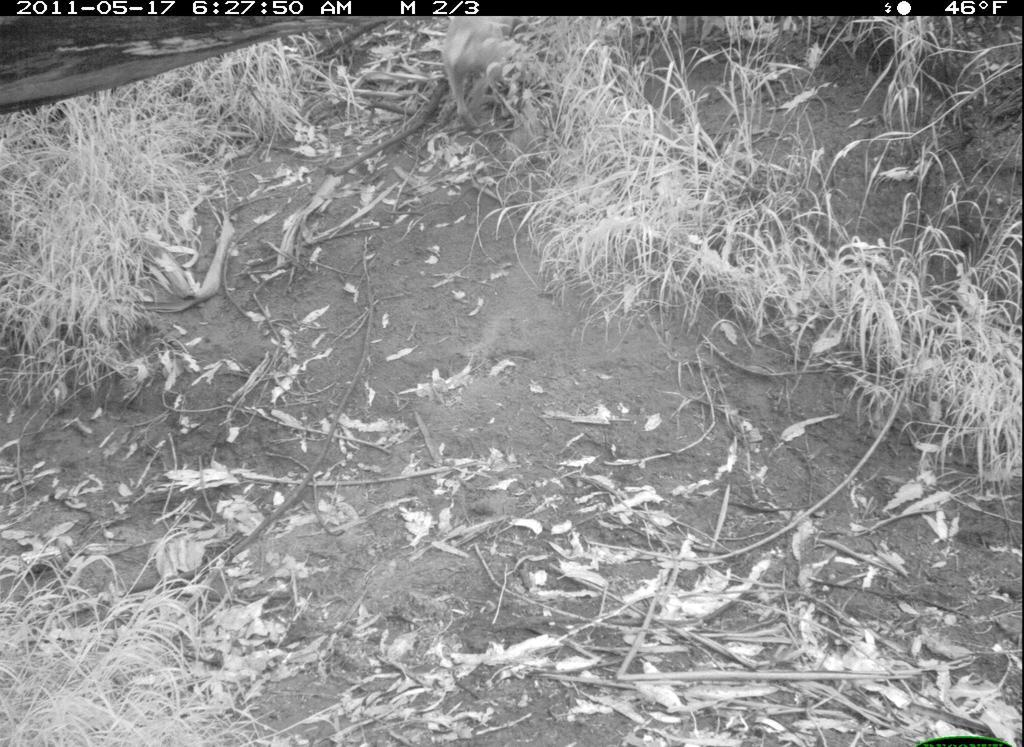dog: (418, 13, 548, 143)
